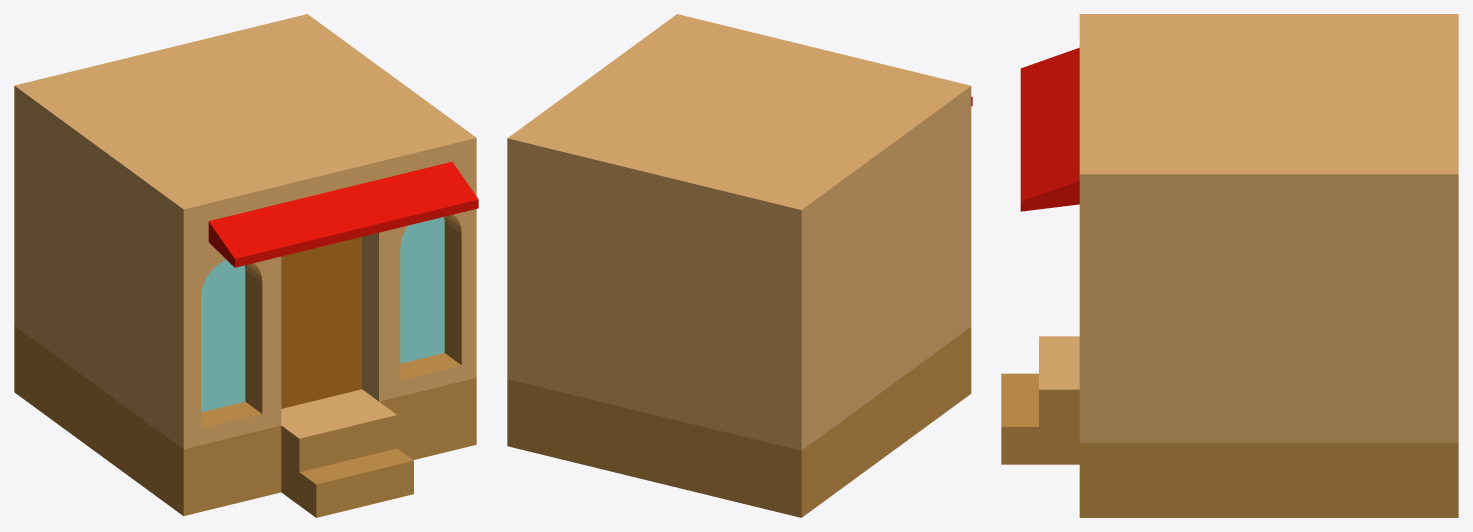
Rendered from Building Base7.fbx.
3 views of the same model, side by side, from view 1: azimuth 30°, elevation 25°; view 2: azimuth 150°, elevation 25°; view 3: azimuth 270°, elevation 25° (orthographic). The views are drawn at different scales.
Parts seen in each view (by area): view 1: base5; view 2: base5; view 3: base5.
Boxes of the visible parts, left/top/right/bottom form: base5: left=14, top=14, right=478, bottom=517; base5: left=507, top=14, right=972, bottom=517; base5: left=1001, top=14, right=1458, bottom=517.
Bounding box in the file's own units: 300 × 300 × 362.
